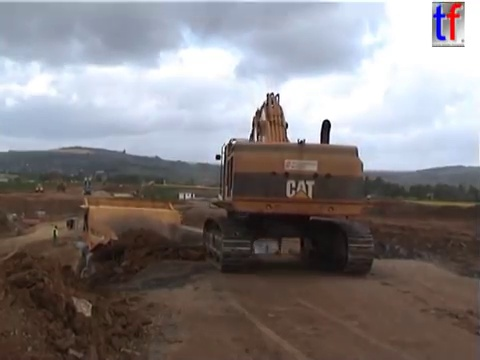excavator: (199, 90, 376, 277)
truck: (65, 193, 232, 294), (112, 193, 186, 234), (54, 180, 67, 192), (33, 182, 44, 192)
worker: (49, 223, 60, 248)
